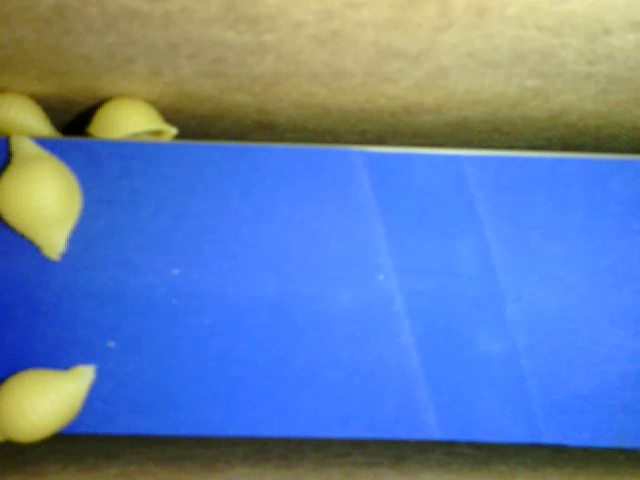shell: (1, 131, 83, 264), (1, 361, 98, 441), (85, 94, 186, 141), (1, 83, 63, 135)
